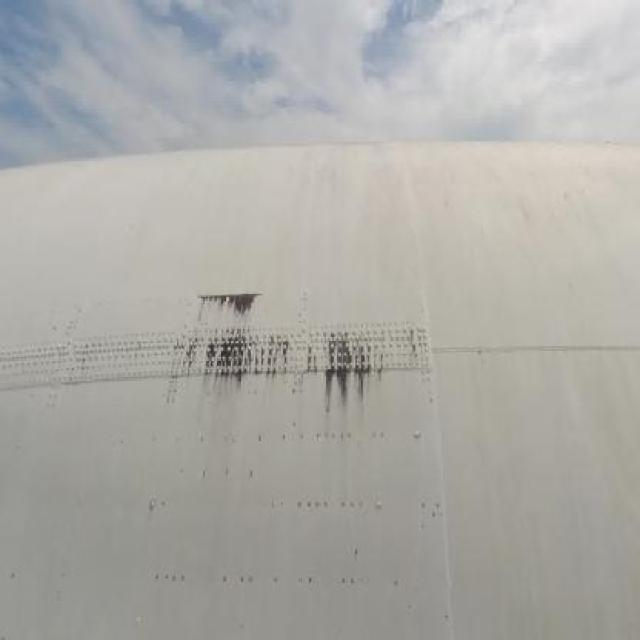Rust: (162, 247, 422, 450)
